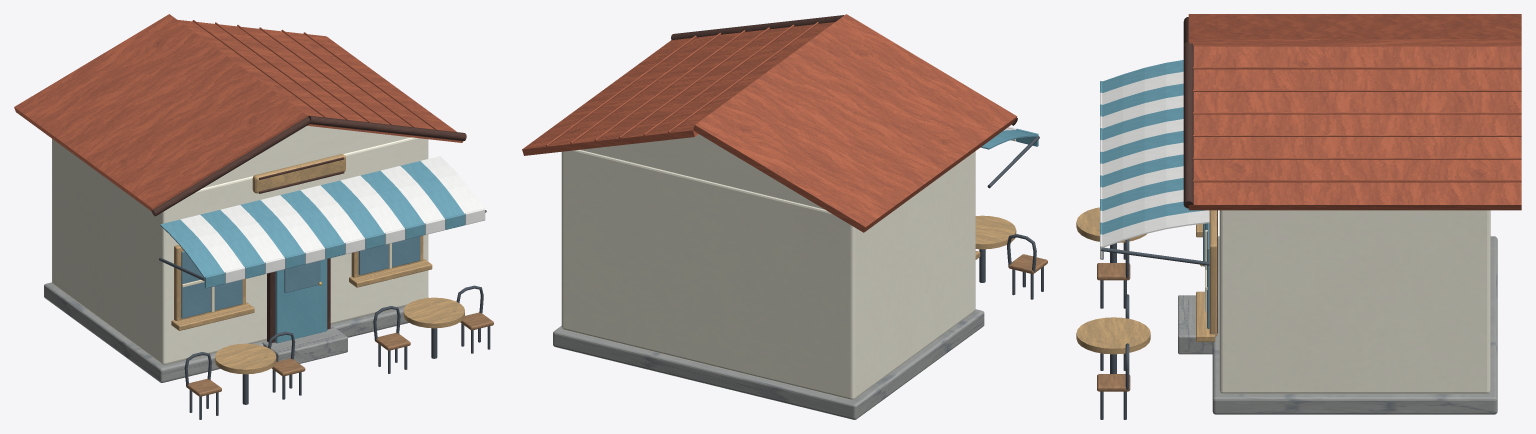
File: house_4.glb
The picture shows the model from 3 angles, left to right: view 1: azimuth 30°, elevation 25°; view 2: azimuth 150°, elevation 25°; view 3: azimuth 270°, elevation 25°; orthographic projection. The views are drawn at different scales.
Parts seen in each view (by area): view 1: house_4; view 2: house_4; view 3: house_4.
Boxes of the visible parts, x1=… form: house_4: x1=14, y1=14, x2=493, y2=419; house_4: x1=522, y1=14, x2=1047, y2=419; house_4: x1=1076, y1=14, x2=1521, y2=419.
Bounding box in the file's own units: 5.65 × 4.19 × 5.75.
3 materials, 3 textured.
